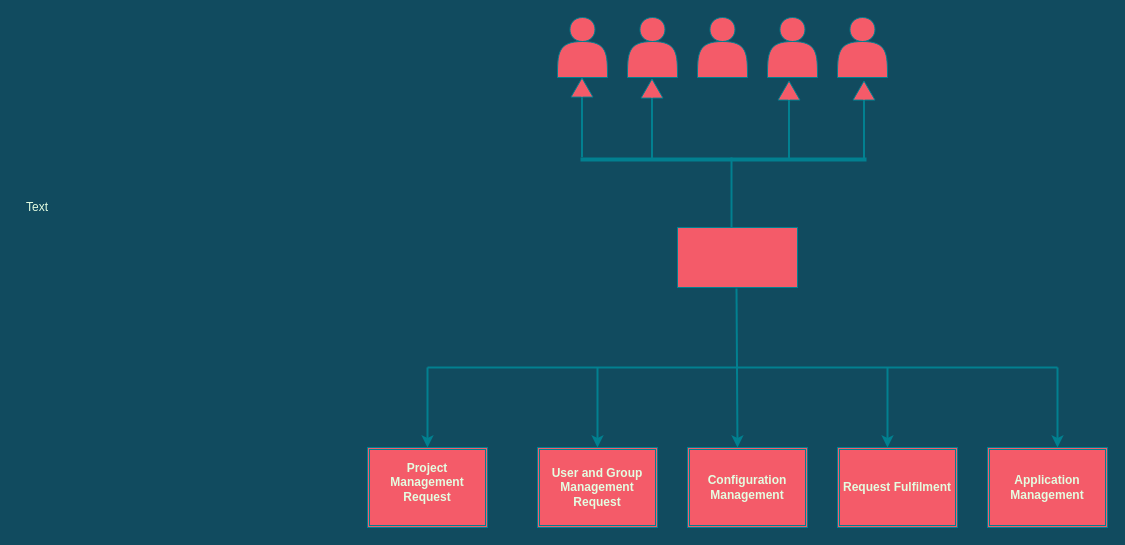
Some shapes in this 1125 by 545 pixel diagram are drawn without their labels. Each missing label, with the centre of its shape:
Support Team: point 737,257
Users: point 722,47
